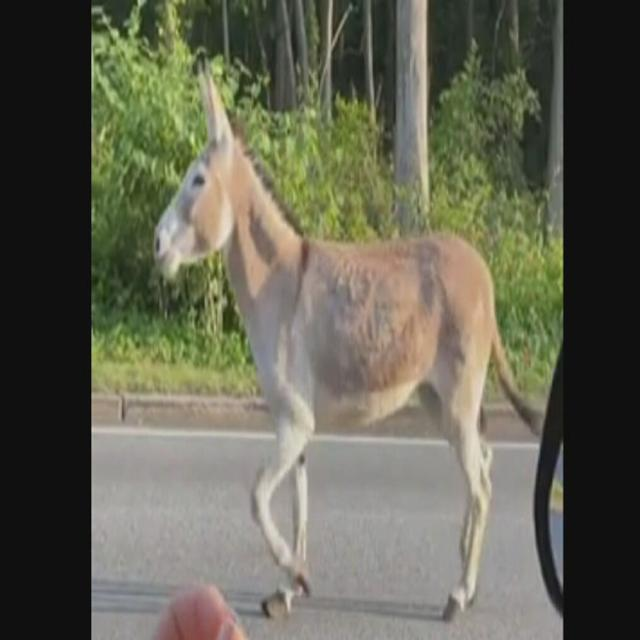Donkey: (150, 38, 544, 637)
